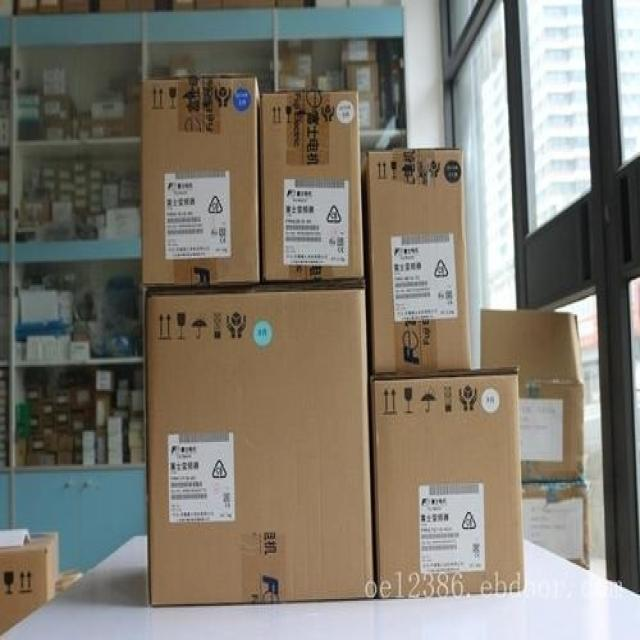box: (142, 283, 374, 608), (370, 365, 526, 601), (141, 73, 262, 287), (362, 147, 471, 374), (260, 89, 364, 282), (480, 309, 585, 485), (0, 529, 60, 638), (522, 483, 593, 572)
